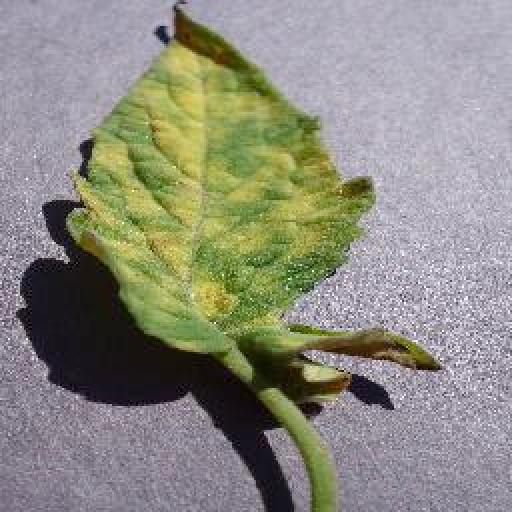disease_tomato: (63, 0, 375, 354)
